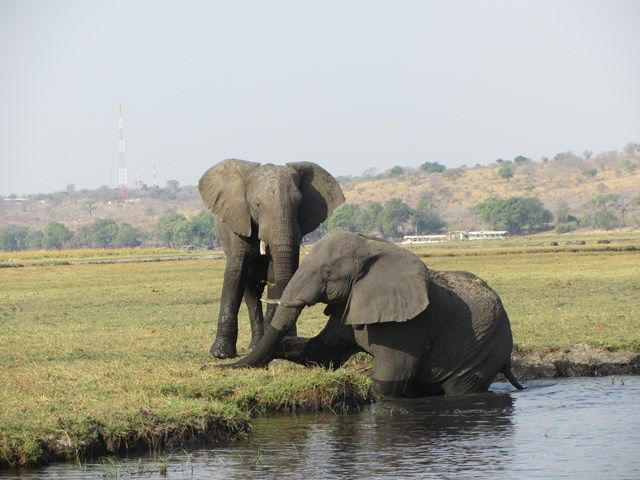elephant: (200, 227, 530, 409), (187, 155, 347, 367)
